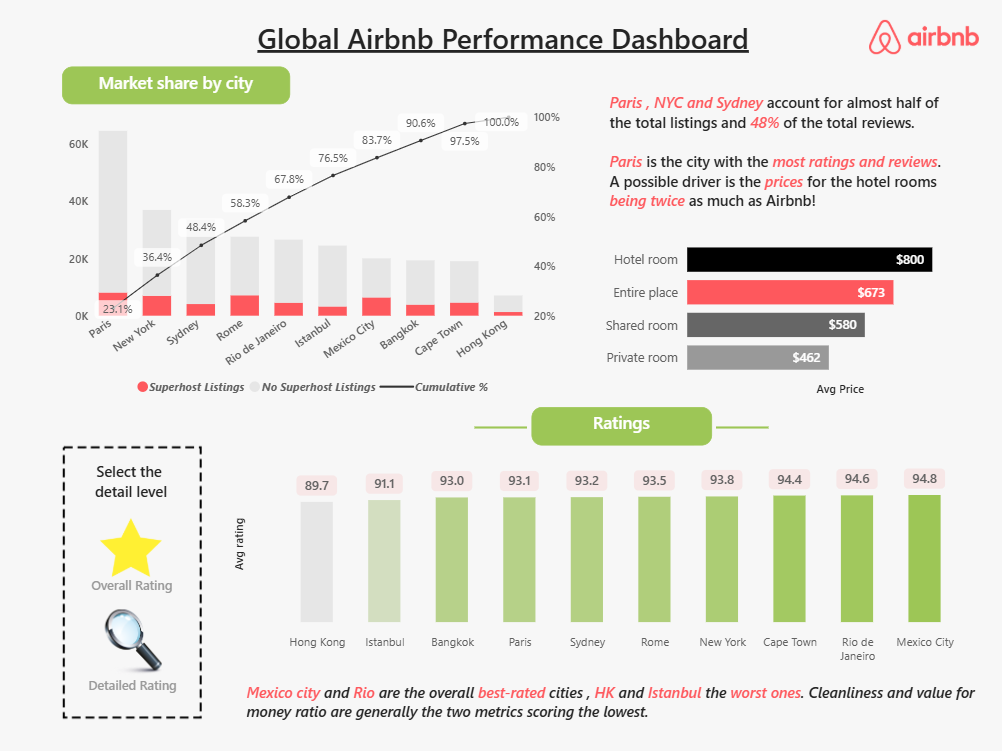

The dashboard page shown, as its layout file describes it:
{"tool":"powerbi","page":{"name":"Ratings","canvas":[960,720],"ordinal":1},"visuals":[{"type":"textbox","box":[227,18.4,506,49.6],"z":0},{"type":"image","box":[828.6,19,104.8,34.9],"z":1000},{"type":"textbox","box":[506.7,388.3,171.7,36.7],"z":2000},{"type":"lineStackedColumnComboChart","fields":{"Category":["Listings.city"],"Y":["Listings.Superhost Listings","Listings.No Superhost Listings"],"Y2":["Listings.Cumulative %"]},"box":[50,99.6,491.4,284.3],"z":3000},{"type":"barChart","fields":{"Category":["Listings.room_type"],"Y":["Listings.Avg Price"]},"box":[571.4,212.9,375.7,171.4],"z":4000},{"type":"textbox","box":[581.4,88.6,320,152.9],"z":5000},{"type":"columnChart","fields":{"Category":["Listings.city"],"Y":["Listings.Avg rating"]},"box":[208,422,731.4,230],"z":6000},{"type":"textbox","box":[60,63.9,217,36],"z":7000},{"type":"shape","box":[453.3,371.7,50,73.3],"z":8000},{"type":"shape","box":[683.3,371.7,50,73.3],"z":9000},{"type":"image","box":[25.7,410,222.9,291.4],"z":10000},{"type":"image","box":[94,486,62.9,72.9],"z":11000,"group":"g1"},{"type":"textbox","box":[85.7,440.7,80,50],"z":12000},{"type":"image","box":[90.5,581.5,74.3,62.9],"z":12000,"group":"g2"},{"type":"group","id":"g1","title":"Group 1","box":[77,486,98.6,85.7],"z":13000},{"type":"group","id":"g2","title":"Group 2","box":[70.5,581.5,114.3,87.1],"z":14000},{"type":"textbox","box":[77,547.4,98.6,24.3],"z":15000,"group":"g1"},{"type":"textbox","box":[235,650,698.6,44.3],"z":15000},{"type":"textbox","box":[70.5,643.6,114.3,25],"z":16000,"group":"g2"}]}

Visuals, with their boxes in screenshot pixels (x1, y1, x2, y2), scaled from the page's 960x720 canvas onto the 1002x751 screenshot:
textbox: (237,19,765,71)
image: (865,20,974,56)
textbox: (529,405,708,443)
lineStackedColumnComboChart - Listings.city x Listings.Superhost Listings: (52,104,565,400)
barChart - Listings.room_type x Listings.Avg Price: (596,222,989,401)
textbox: (607,92,941,252)
columnChart - Listings.city x Listings.Avg rating: (217,440,980,680)
textbox: (63,67,289,104)
shape: (473,388,525,464)
shape: (713,388,765,464)
image: (27,428,259,732)
image: (98,507,164,583)
textbox: (89,460,173,512)
image: (94,607,172,672)
"Group 1" group: (80,507,183,596)
"Group 2" group: (74,607,193,697)
textbox: (80,571,183,596)
textbox: (245,678,974,724)
textbox: (74,671,193,697)
